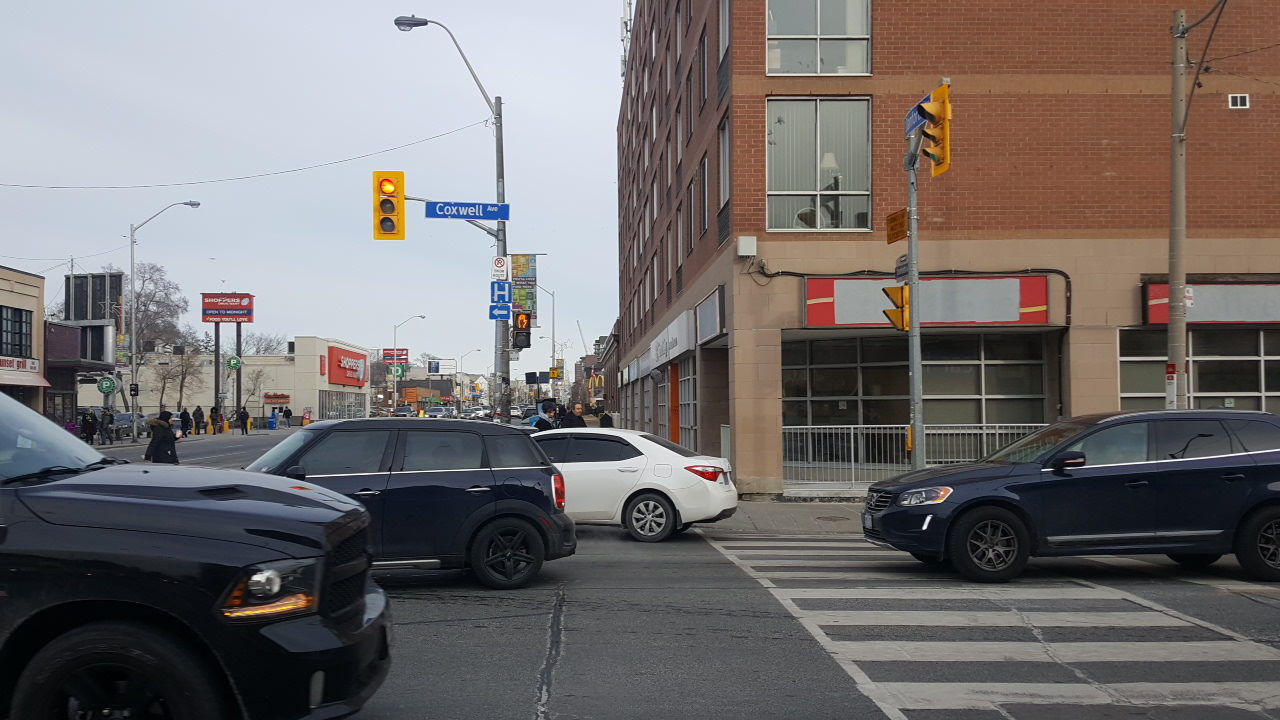light: (510, 307, 532, 351)
